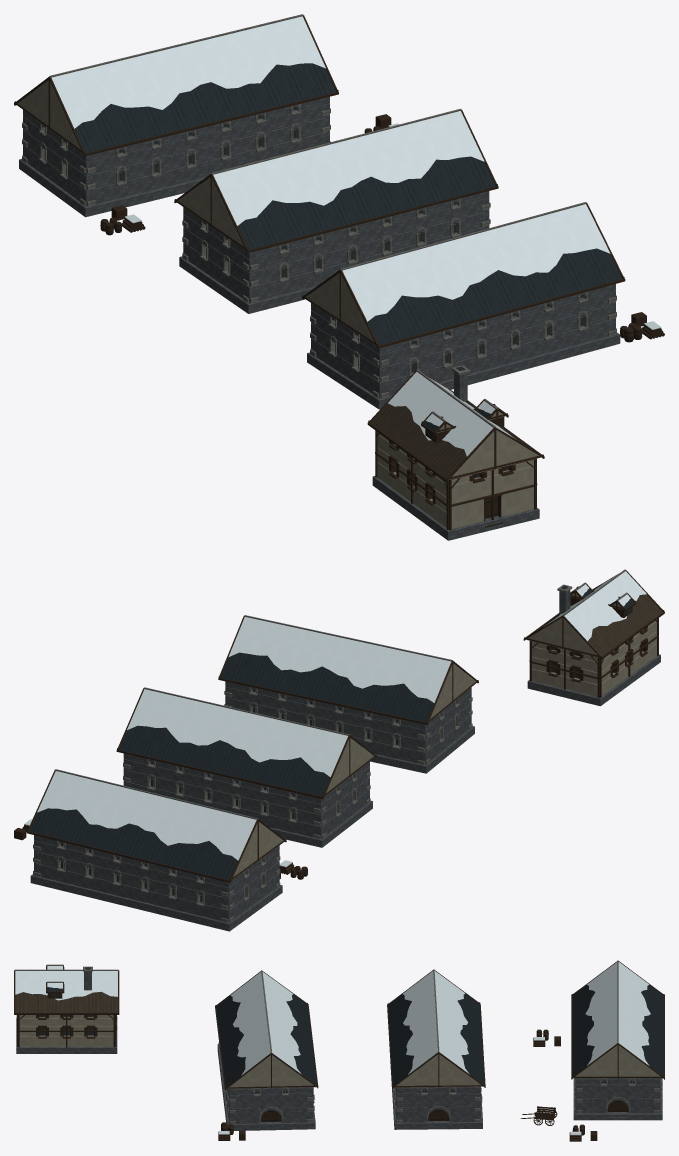
The model's file is storehouses.glb.
3 views of the same model, one above another, from view 1: azimuth 30°, elevation 25°; view 2: azimuth 150°, elevation 25°; view 3: azimuth 270°, elevation 25° (orthographic). The views are drawn at different scales.
Visible parts, largest first — view 1: ENV_R5_Stone, ENV_R5_Snow, ENV_R5_Slate, ENV_R5_Plaster, ENV_R5_Timber, ENV_R5_Trim, ENV_R5_Shingle, ENV_R5_Dark; view 2: ENV_R5_Stone, ENV_R5_Snow, ENV_R5_Slate, ENV_R5_Plaster, ENV_R5_Timber, ENV_R5_Trim, ENV_R5_Shingle, ENV_R5_Dark; view 3: ENV_R5_Snow, ENV_R5_Stone, ENV_R5_Slate, ENV_R5_Plaster, ENV_R5_Timber, ENV_R5_Trim, ENV_R5_Shingle, ENV_R5_Dark.
Part boxes in pixels (left/top/right/bottom): ENV_R5_Stone: left=19, top=96, right=620, bottom=540; ENV_R5_Snow: left=51, top=16, right=661, bottom=456; ENV_R5_Slate: left=15, top=63, right=622, bottom=431; ENV_R5_Plaster: left=17, top=80, right=541, bottom=528; ENV_R5_Timber: left=14, top=15, right=664, bottom=530; ENV_R5_Trim: left=22, top=14, right=616, bottom=427; ENV_R5_Shingle: left=370, top=392, right=542, bottom=478; ENV_R5_Dark: left=119, top=107, right=582, bottom=484; ENV_R5_Stone: left=30, top=590, right=660, bottom=931; ENV_R5_Snow: left=24, top=571, right=646, bottom=867; ENV_R5_Slate: left=29, top=588, right=634, bottom=880; ENV_R5_Plaster: left=232, top=593, right=656, bottom=879; ENV_R5_Timber: left=14, top=570, right=664, bottom=882; ENV_R5_Trim: left=33, top=569, right=627, bottom=922; ENV_R5_Shingle: left=525, top=585, right=662, bottom=656; ENV_R5_Dark: left=61, top=585, right=630, bottom=901; ENV_R5_Snow: left=15, top=962, right=650, bottom=1135; ENV_R5_Stone: left=16, top=971, right=662, bottom=1130; ENV_R5_Slate: left=47, top=985, right=663, bottom=1086; ENV_R5_Plaster: left=19, top=1015, right=662, bottom=1088; ENV_R5_Timber: left=14, top=961, right=664, bottom=1141; ENV_R5_Trim: left=14, top=960, right=662, bottom=1127; ENV_R5_Shingle: left=15, top=991, right=117, bottom=1012; ENV_R5_Dark: left=39, top=967, right=634, bottom=1093.
Bounding box in the file's own units: 48.21 × 14.78 × 107.
9 materials, 8 textured.
